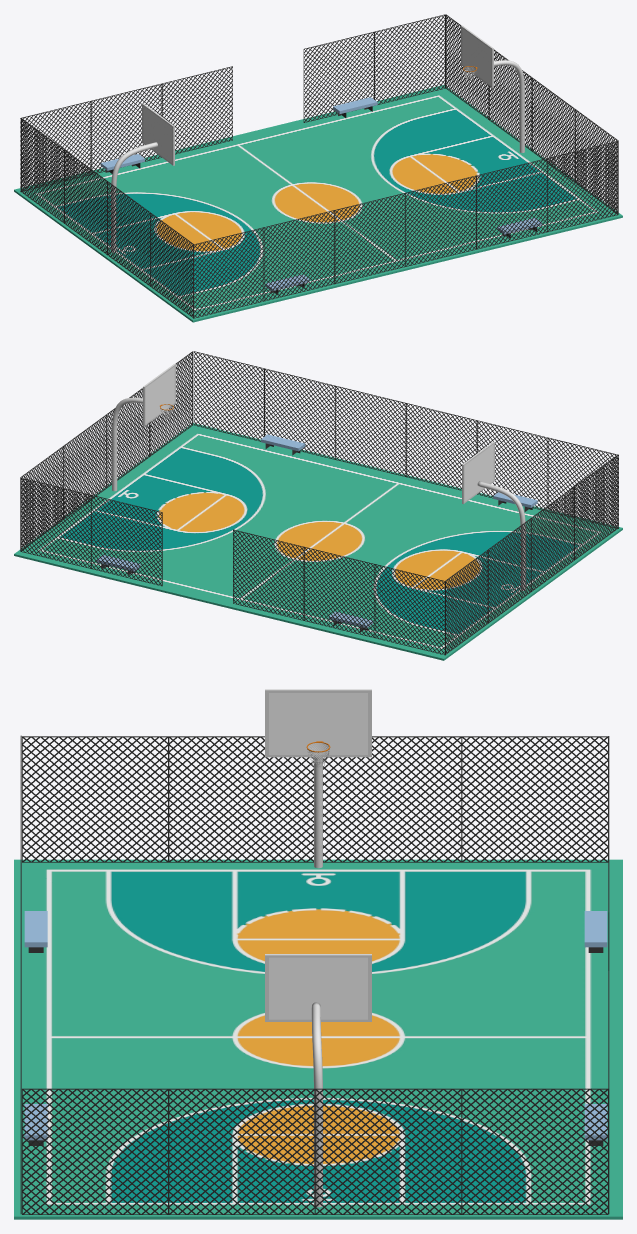
Rendered from free_3d_basketball_court.glb.
3 views of the same model, one above another, from view 1: azimuth 30°, elevation 25°; view 2: azimuth 150°, elevation 25°; view 3: azimuth 270°, elevation 25° (orthographic). The views are drawn at different scales.
Visible parts, largest first — view 1: Plane_10, Plane.008_11, Plane.001_2, Plane.003_7, NurbsPath.001_6, NurbsPath_1, Plane.006_13; view 2: Plane_10, Plane.008_11, Plane.001_2, Plane.003_7, NurbsPath.001_6, NurbsPath_1, Plane.005_12; view 3: Plane_10, Plane.008_11, Plane.003_7, Plane.001_2, NurbsPath_1, NurbsPath.001_6, Plane.007_14, Plane.009_15.
Part boxes in pixels (x1=…): Plane_10: x1=14, y1=85, x2=622, y2=322; Plane.008_11: x1=20, y1=14, x2=618, y2=318; Plane.001_2: x1=461, y1=25, x2=493, y2=87; Plane.003_7: x1=142, y1=103, x2=174, y2=165; NurbsPath.001_6: x1=111, y1=142, x2=157, y2=252; NurbsPath_1: x1=494, y1=60, x2=524, y2=152; Plane.006_13: x1=333, y1=97, x2=377, y2=117; Plane_10: x1=14, y1=423, x2=622, y2=660; Plane.008_11: x1=20, y1=351, x2=618, y2=655; Plane.001_2: x1=143, y1=364, x2=175, y2=426; Plane.003_7: x1=462, y1=441, x2=494, y2=503; NurbsPath.001_6: x1=477, y1=481, x2=525, y2=590; NurbsPath_1: x1=112, y1=397, x2=142, y2=491; Plane.005_12: x1=261, y1=434, x2=305, y2=455; Plane_10: x1=14, y1=859, x2=622, y2=1219; Plane.008_11: x1=20, y1=735, x2=609, y2=1214; Plane.003_7: x1=265, y1=689, x2=371, y2=757; Plane.001_2: x1=265, y1=954, x2=371, y2=1021; NurbsPath_1: x1=311, y1=1002, x2=322, y2=1207; NurbsPath.001_6: x1=314, y1=757, x2=322, y2=868; Plane.007_14: x1=24, y1=911, x2=47, y2=952; Plane.009_15: x1=584, y1=911, x2=607, y2=952.
Bounding box in the file's own units: 8.83 × 2.52 × 6.37.
Materials: 9 (1 with a texture image).
